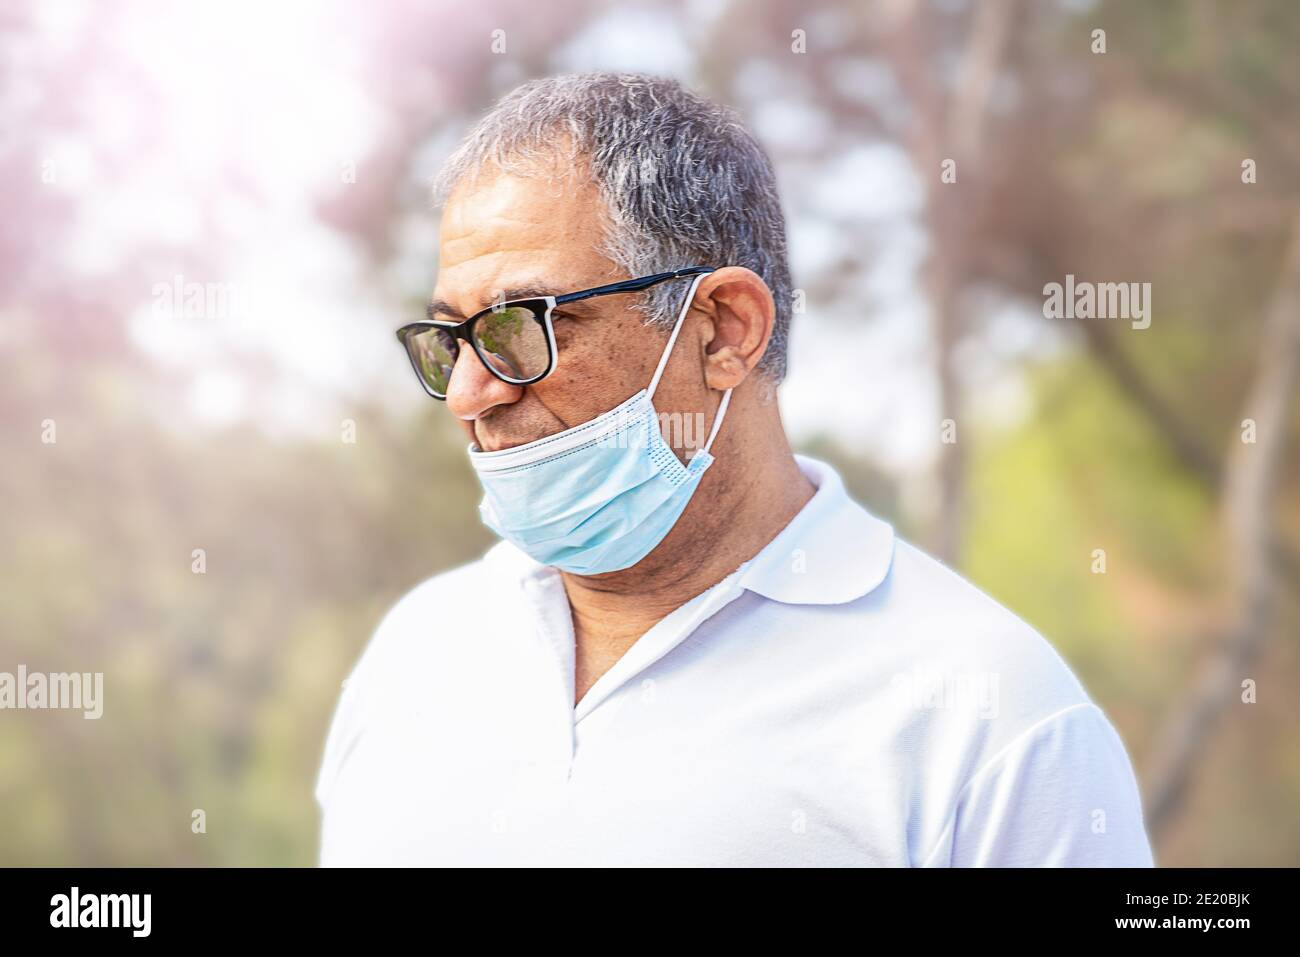nose_out: (401, 75, 793, 570)
